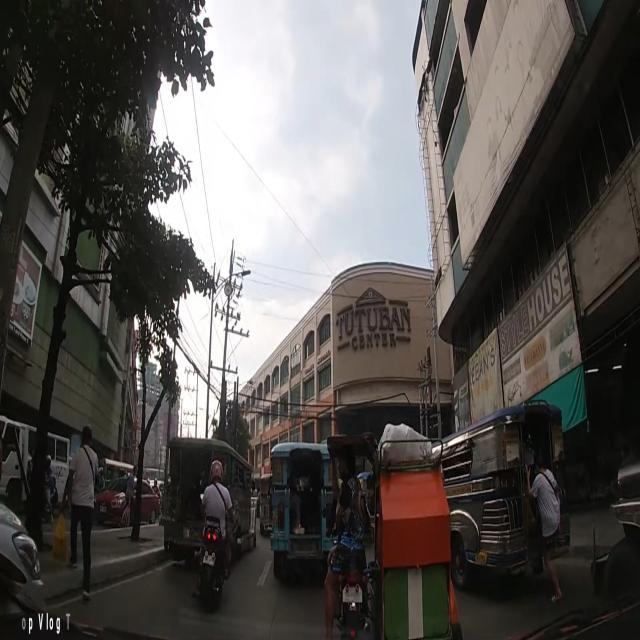car: (0, 495, 44, 640), (94, 474, 160, 524)
jeepney: (429, 399, 565, 596), (162, 436, 258, 576), (268, 440, 339, 581), (258, 470, 276, 541), (98, 457, 135, 489)
motorcycle: (196, 459, 234, 612)
tricycle: (324, 421, 465, 640)
truck: (0, 414, 74, 512)
